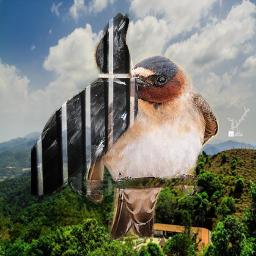Crow: (31, 13, 138, 195)
Swallow: (86, 54, 219, 241)
